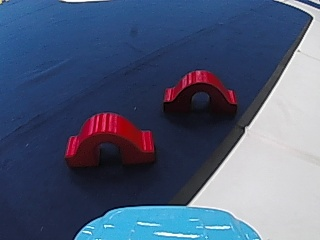bridge: (59, 108, 160, 169), (161, 65, 240, 116)
